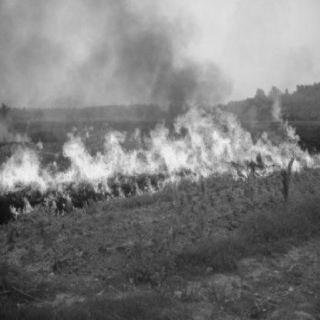Fire: (4, 108, 317, 214)
